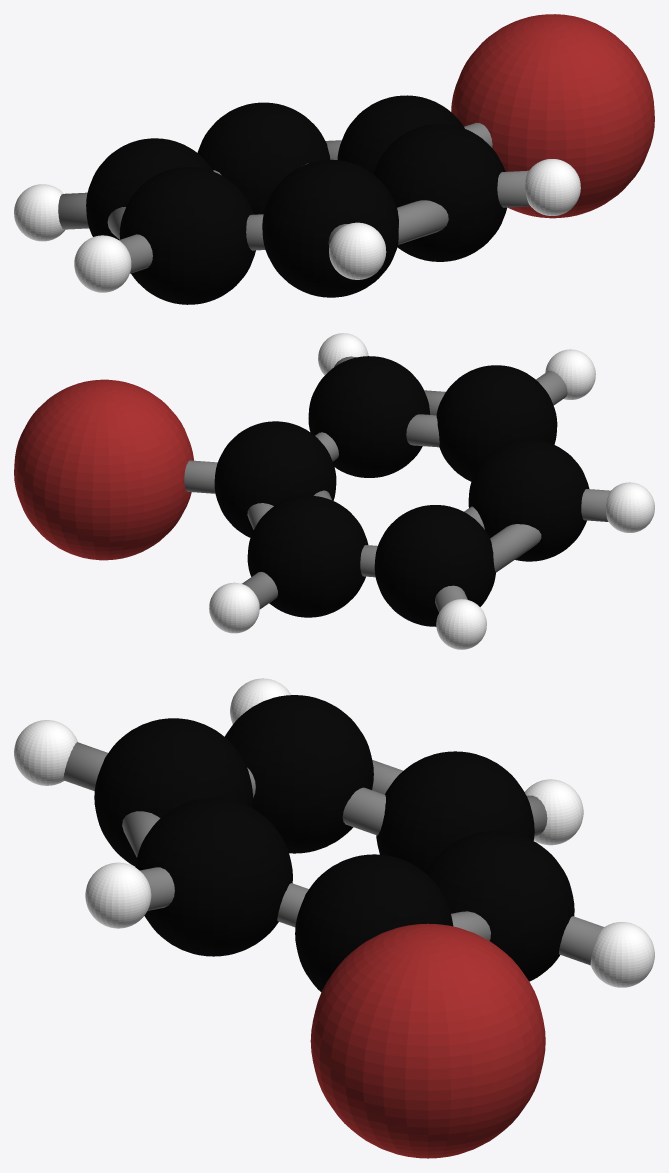
The model's file is BROMOBENCENO.obj.
The picture shows the model from 3 angles, top to bottom: view 1: azimuth 30°, elevation 25°; view 2: azimuth 150°, elevation 25°; view 3: azimuth 270°, elevation 25°; orthographic projection. The views are drawn at different scales.
Parts seen in each view (by area): view 1: Carbon_ball_Sphere.002, Bromine_ball_Sphere.001, Hydrogen_ball_Sphere, Stick_Cylinder.012_Cylinder.012, Stick_Cylinder.009_Cylinder.009, Stick_Cylinder_Cylinder, Stick_Cylinder.006_Cylinder.006, Stick_Cylinder.007_Cylinder.007; view 2: Carbon_ball_Sphere.002, Bromine_ball_Sphere.001, Hydrogen_ball_Sphere, Stick_Cylinder.013_Cylinder.013, Stick_Cylinder.001_Cylinder.001, Stick_Cylinder.010_Cylinder.010, Stick_Cylinder.006_Cylinder.006, Stick_Cylinder.003_Cylinder.003, Stick_Cylinder.008_Cylinder.008, Stick_Cylinder_Cylinder, Stick_Cylinder.002_Cylinder.002; view 3: Carbon_ball_Sphere.002, Bromine_ball_Sphere.001, Hydrogen_ball_Sphere, Stick_Cylinder.005_Cylinder.005, Stick_Cylinder.003_Cylinder.003, Stick_Cylinder.008_Cylinder.008, Stick_Cylinder.009_Cylinder.009, Stick_Cylinder.012_Cylinder.012, Stick_Cylinder.011_Cylinder.011, Stick_Cylinder.004_Cylinder.004.
Part boxes in pixels (left/top/right/bottom): Carbon_ball_Sphere.002: left=86, top=95, right=506, bottom=304; Bromine_ball_Sphere.001: left=451, top=14, right=654, bottom=218; Hydrogen_ball_Sphere: left=14, top=159, right=580, bottom=292; Stick_Cylinder.012_Cylinder.012: left=397, top=200, right=448, bottom=244; Stick_Cylinder.009_Cylinder.009: left=497, top=170, right=530, bottom=207; Stick_Cylinder_Cylinder: left=58, top=192, right=88, bottom=229; Stick_Cylinder.006_Cylinder.006: left=119, top=234, right=152, bottom=273; Stick_Cylinder.007_Cylinder.007: left=246, top=214, right=265, bottom=250; Carbon_ball_Sphere.002: left=214, top=356, right=589, bottom=626; Bromine_ball_Sphere.001: left=14, top=379, right=193, bottom=560; Hydrogen_ball_Sphere: left=209, top=333, right=654, bottom=649; Stick_Cylinder.013_Cylinder.013: left=490, top=524, right=541, bottom=572; Stick_Cylinder.001_Cylinder.001: left=184, top=460, right=217, bottom=493; Stick_Cylinder.010_Cylinder.010: left=406, top=414, right=439, bottom=447; Stick_Cylinder.006_Cylinder.006: left=581, top=489, right=610, bottom=521; Stick_Cylinder.003_Cylinder.003: left=242, top=572, right=277, bottom=609; Stick_Cylinder.008_Cylinder.008: left=536, top=370, right=567, bottom=405; Stick_Cylinder_Cylinder: left=435, top=585, right=467, bottom=612; Stick_Cylinder.002_Cylinder.002: left=360, top=545, right=377, bottom=577; Carbon_ball_Sphere.002: left=94, top=695, right=574, bottom=992; Bromine_ball_Sphere.001: left=310, top=923, right=545, bottom=1158; Hydrogen_ball_Sphere: left=14, top=678, right=654, bottom=987; Stick_Cylinder.005_Cylinder.005: left=342, top=787, right=385, bottom=835; Stick_Cylinder.003_Cylinder.003: left=559, top=916, right=603, bottom=965; Stick_Cylinder.008_Cylinder.008: left=63, top=742, right=107, bottom=790; Stick_Cylinder.009_Cylinder.009: left=140, top=867, right=174, bottom=910; Stick_Cylinder.012_Cylinder.012: left=122, top=811, right=160, bottom=857; Stick_Cylinder.011_Cylinder.011: left=277, top=883, right=308, bottom=927; Stick_Cylinder.004_Cylinder.004: left=451, top=911, right=490, bottom=940.
Bounding box in the file's own units: 8.18 × 2.52 × 6.22.
